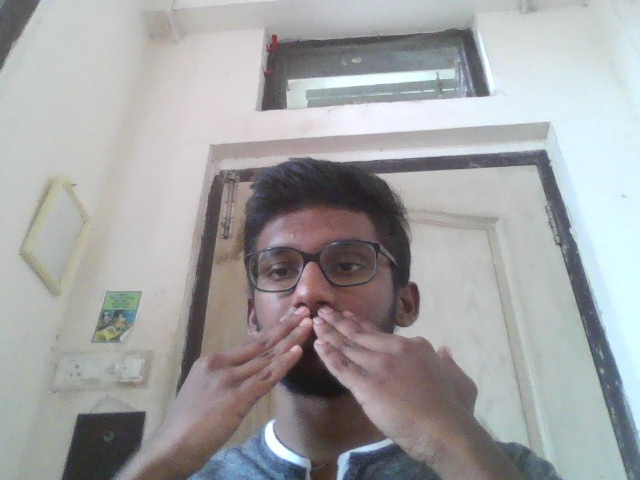Thank You: (150, 302, 485, 444)
